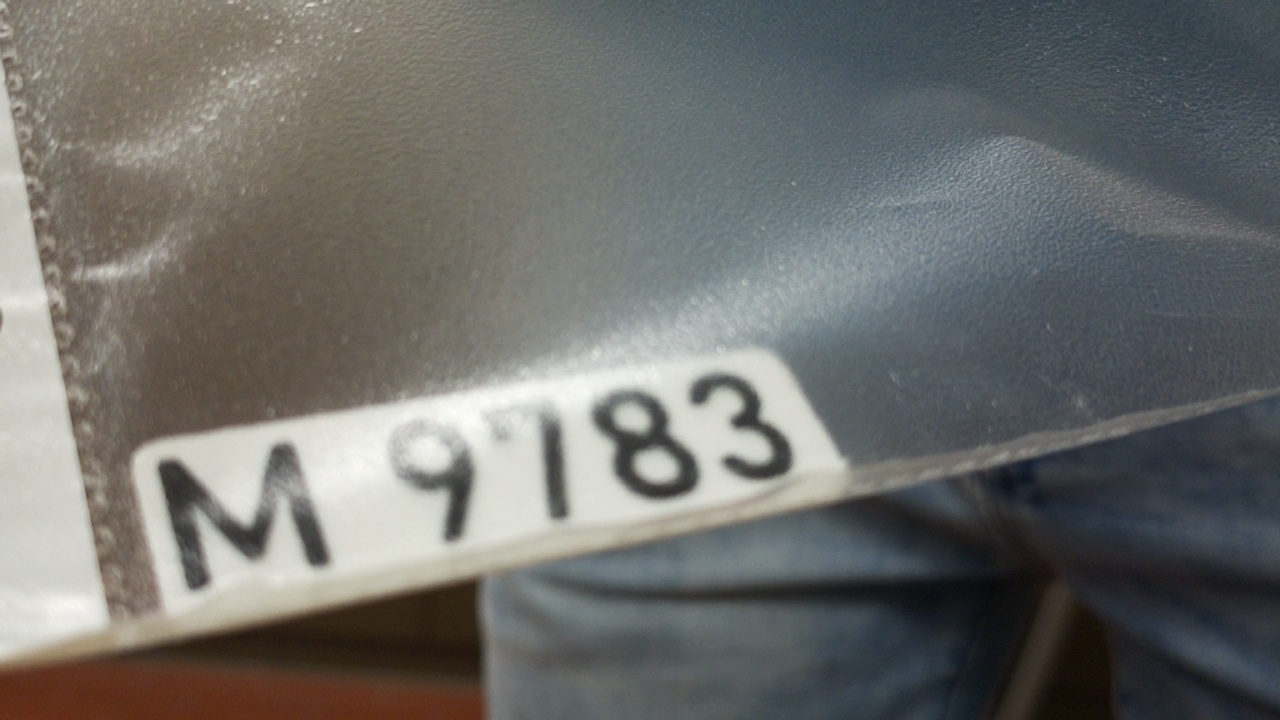license_plate: (126, 341, 862, 629)
